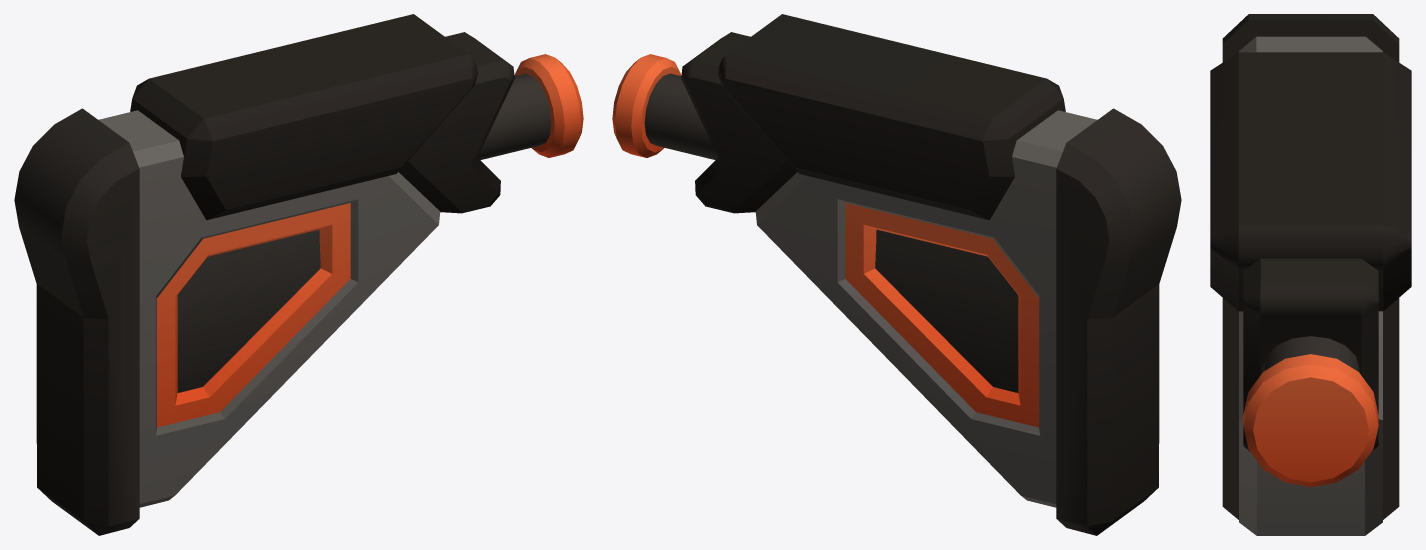
Rendered from SMG2_ButtstockHeavy.fbx.
3 views of the same model, side by side, from view 1: azimuth 30°, elevation 25°; view 2: azimuth 150°, elevation 25°; view 3: azimuth 270°, elevation 25° (orthographic). The views are drawn at different scales.
Parts seen in each view (by area): view 1: SMG2_ButtstockHeavy; view 2: SMG2_ButtstockHeavy; view 3: SMG2_ButtstockHeavy.
Boxes of the visible parts, x1,y1,x2,y2 form: SMG2_ButtstockHeavy: [14, 14, 583, 535]; SMG2_ButtstockHeavy: [612, 14, 1181, 535]; SMG2_ButtstockHeavy: [1210, 14, 1411, 535].
Bounding box in the file's own units: 20.04 × 14.46 × 5.05.
